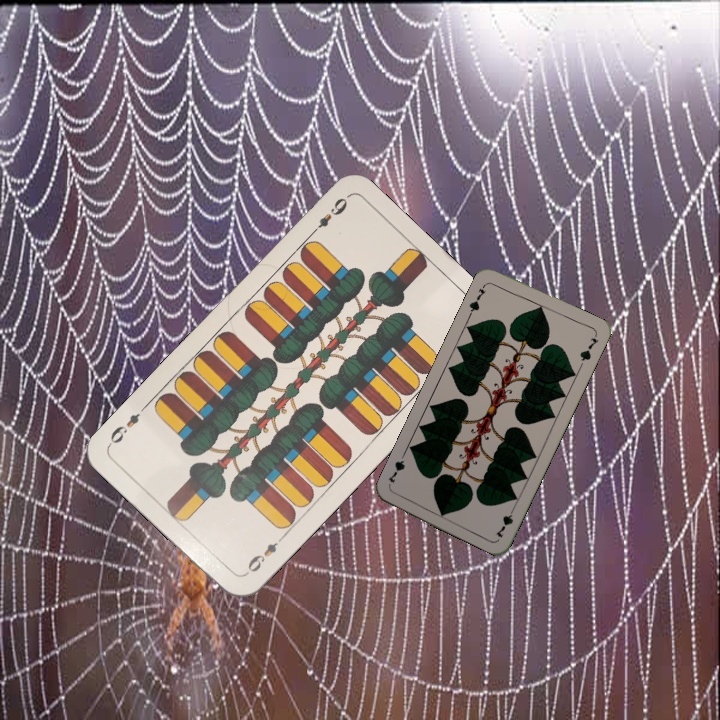E9: (305, 193, 350, 239), (241, 537, 280, 578)
G7: (491, 502, 518, 540), (465, 280, 489, 318)
